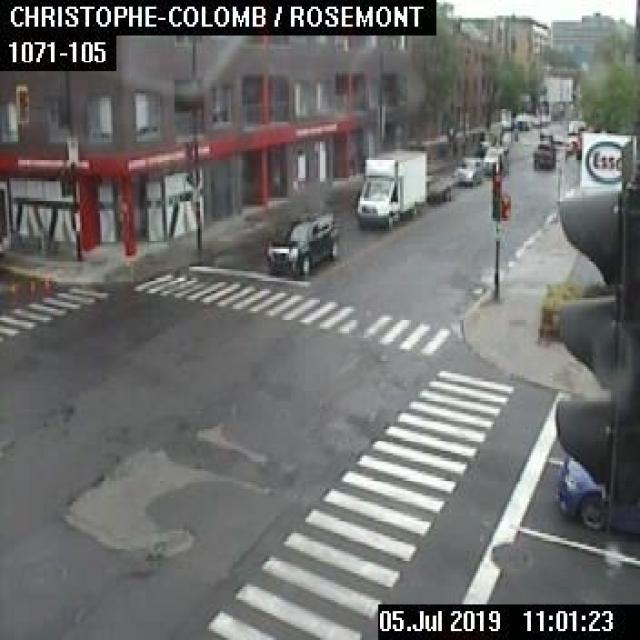vehicle: (554, 458, 638, 531), (355, 148, 425, 230), (263, 212, 337, 276), (454, 156, 481, 185), (481, 146, 506, 175), (426, 176, 449, 203), (532, 142, 554, 168)
